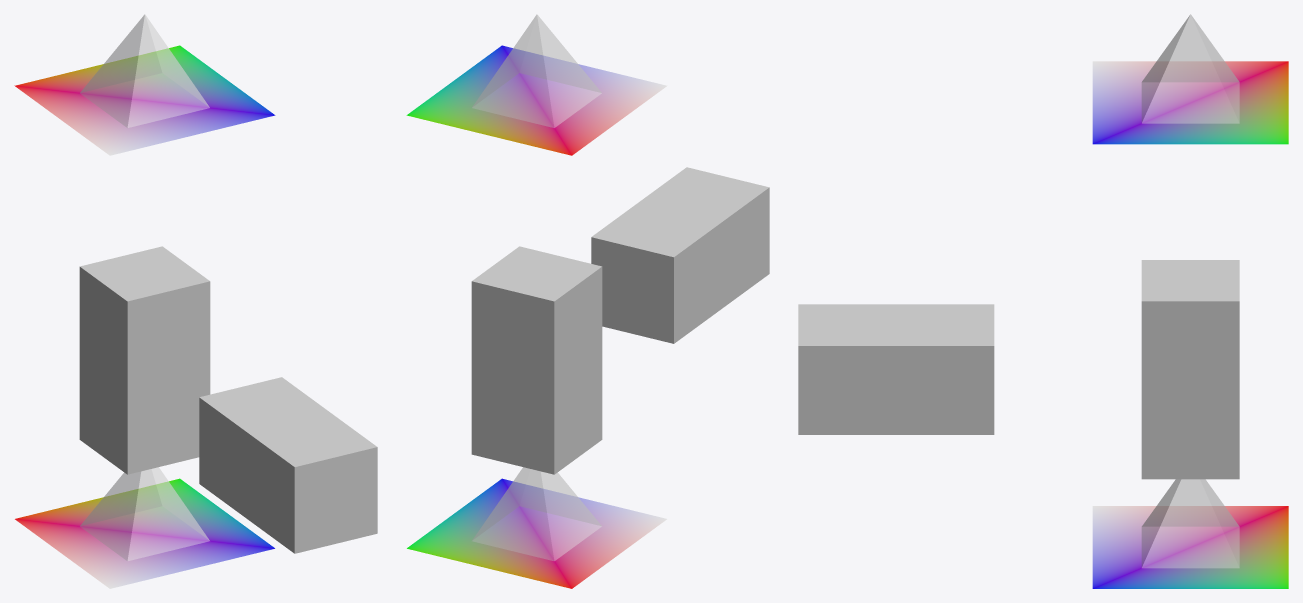
Rendered from robot_external.fbx.
3 renders of one model, left to right at view 1: azimuth 30°, elevation 25°; view 2: azimuth 150°, elevation 25°; view 3: azimuth 270°, elevation 25°, orthographic. The views are drawn at different scales.
Visible parts, largest first — view 1: Body, Head, Antenna, Ground; view 2: Body, Head, Antenna, Ground; view 3: Head, Body, Antenna, Ground.
Boxes of the visible parts, x1,y1,x2,y2 form: Body: (79,246,210,474); Head: (199,377,377,553); Antenna: (14,14,275,155); Ground: (15,467,274,588); Body: (471,246,602,474); Head: (591,167,769,343); Antenna: (406,14,667,155); Ground: (407,467,666,588); Head: (798,304,994,434); Body: (1141,260,1239,479); Antenna: (1092,14,1288,144); Ground: (1092,479,1288,588).
Size of the model in its own units: 2 by 6 by 5.
